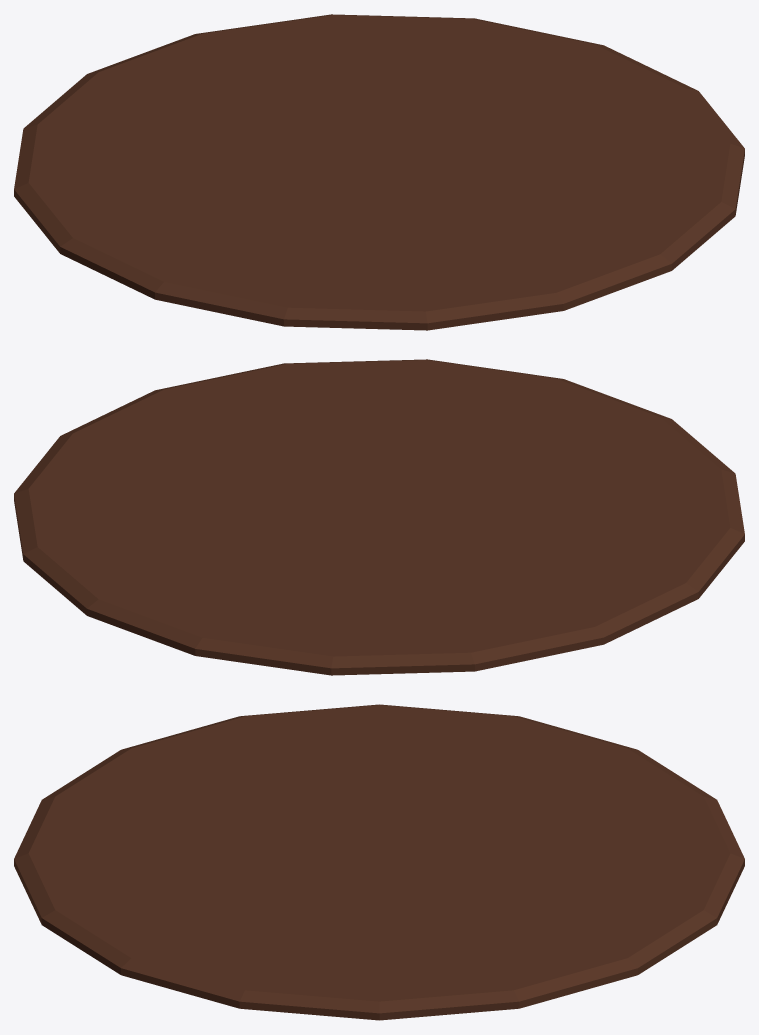
The model's file is BasePlatform.009.glb.
3 views of the same model, one above another, from view 1: azimuth 30°, elevation 25°; view 2: azimuth 150°, elevation 25°; view 3: azimuth 270°, elevation 25° (orthographic).
Parts seen in each view (by area): view 1: BasePlatform.009; view 2: BasePlatform.009; view 3: BasePlatform.009.
Part boxes in pixels (x1,y1,x2,y2): BasePlatform.009: [14, 14, 744, 330]; BasePlatform.009: [14, 359, 744, 675]; BasePlatform.009: [14, 704, 744, 1020].
Size of what is drawn, in the model's own units: 4.06 by 0.0778 by 4.06.
Materials: 1 (1 with a texture image).
